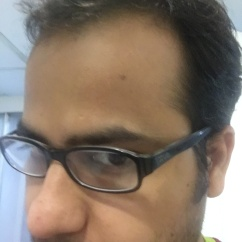glasses: (6, 129, 211, 172)
